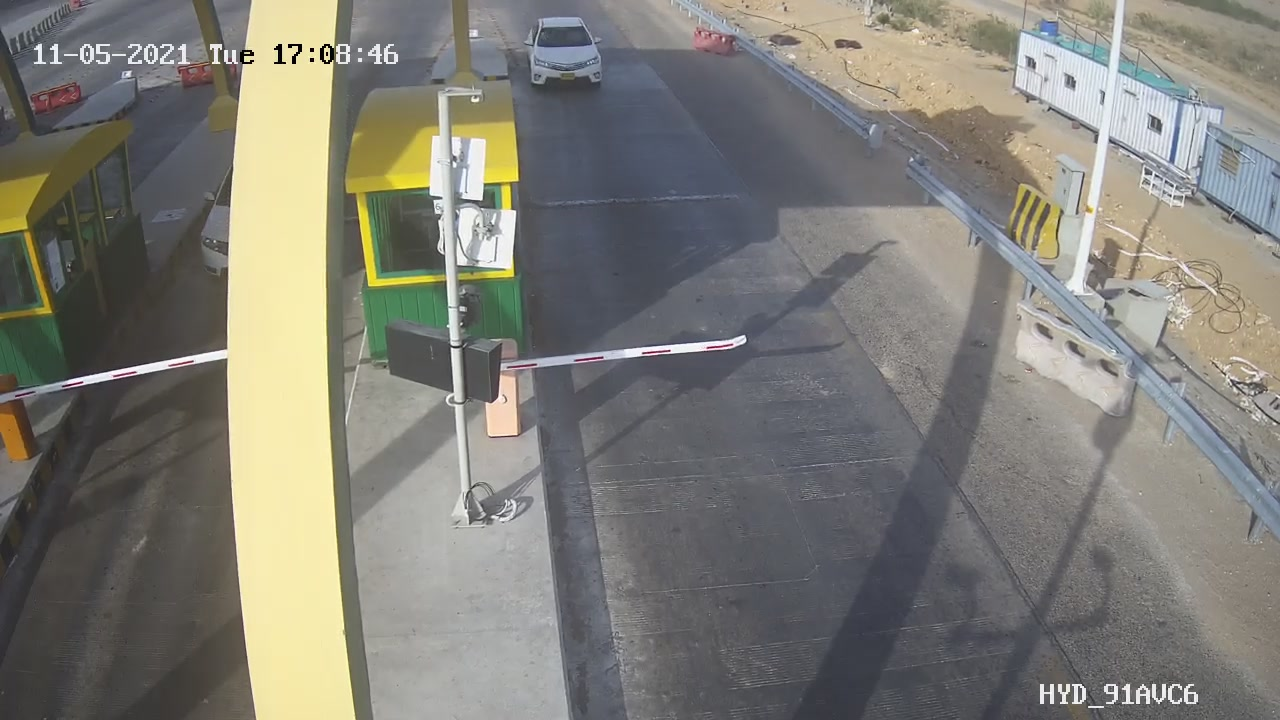F1: (516, 8, 618, 104)
